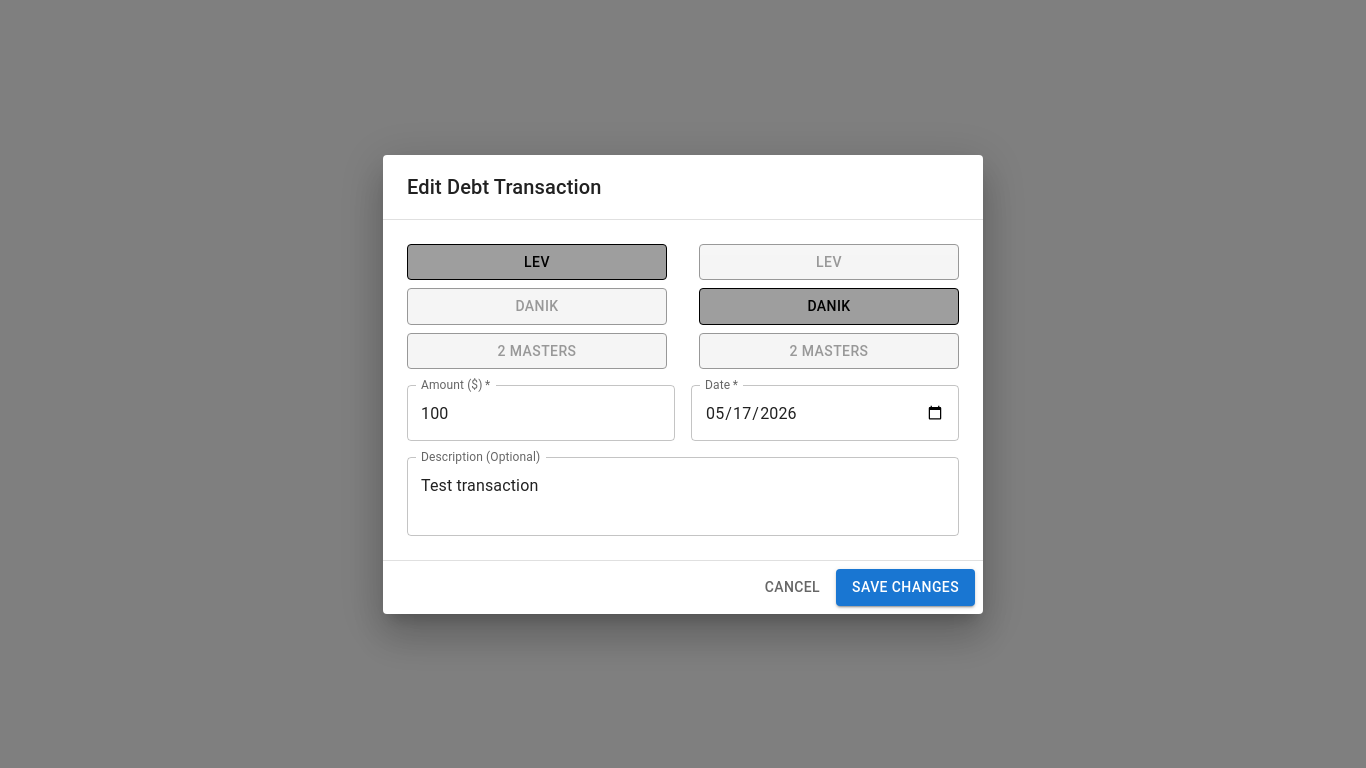
EditTransactionDialog › displays API error on update failure
The width and height of the screenshot is (1366, 768).
Note: Submit form
Click the button "Save Changes" at (906, 587), box [836,569,975,606]
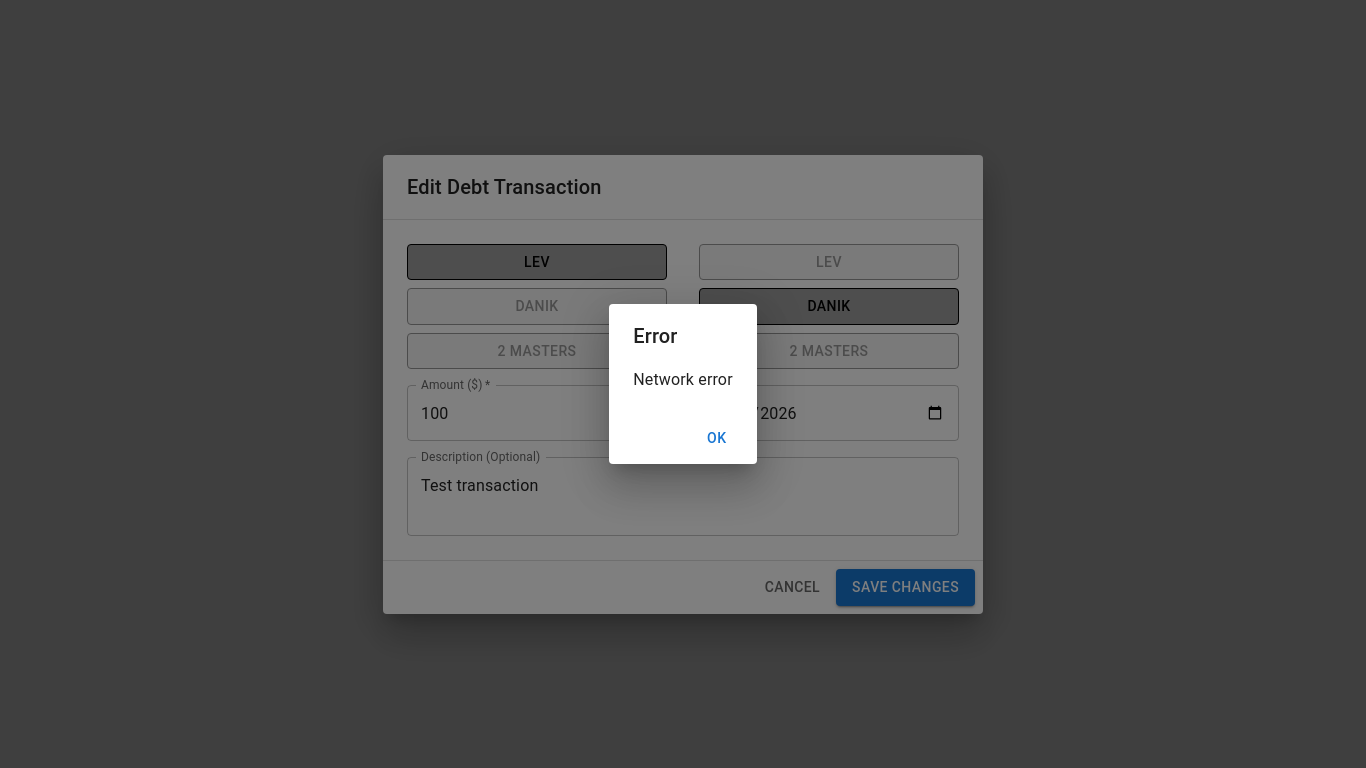
Expected: the text "Network error" is shown, [633,368,733,392]
